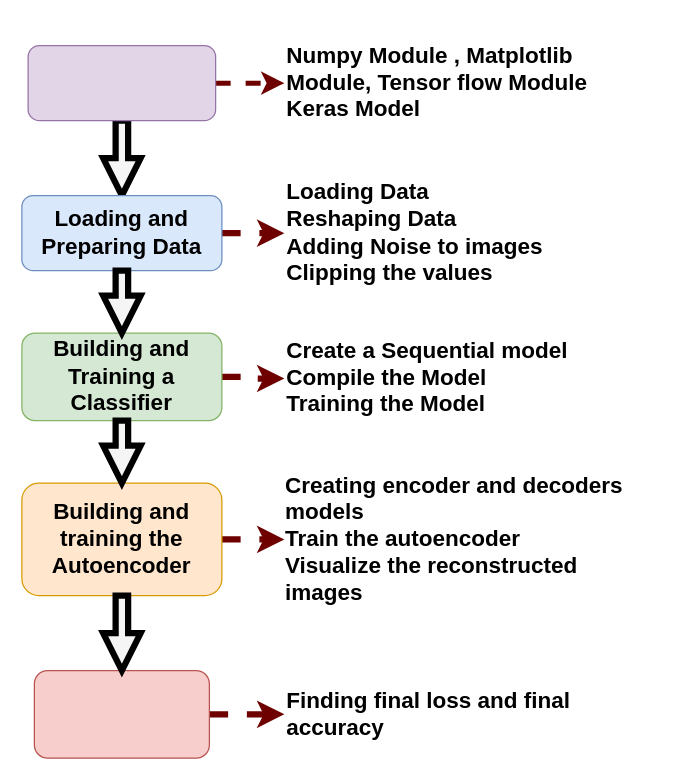
Some shapes in this 689 by 780 pixel diagram are drawn without their labels. Here are the shapes that lost their labels. From the top down, the centre of each, then its label:
pixel 121 82: Importing Modules
pixel 121 713: Checking the final accuracy
